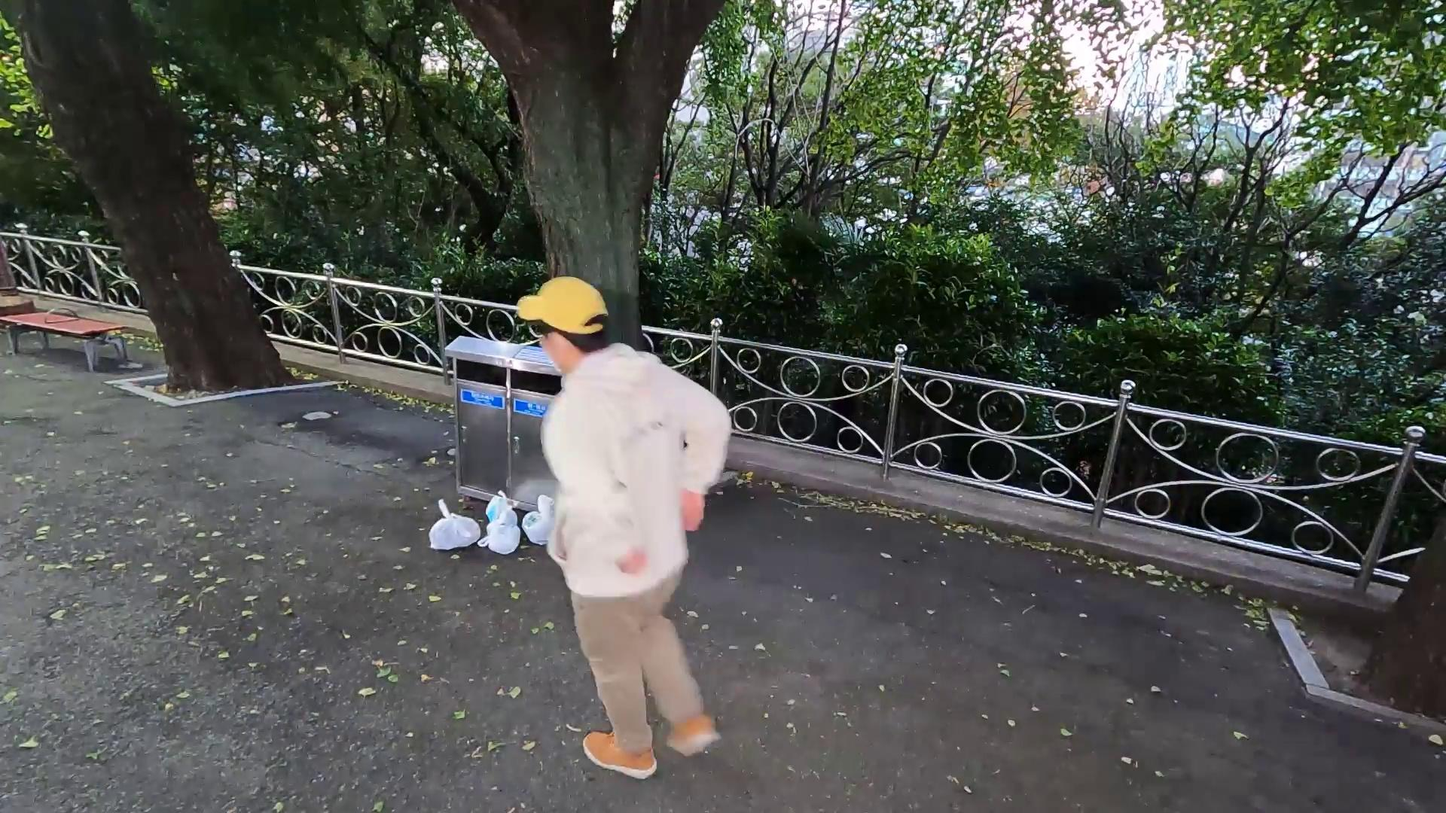person: (508, 272, 737, 783)
trash: (427, 496, 484, 552), (477, 508, 519, 559), (481, 490, 522, 534), (518, 494, 554, 544)
